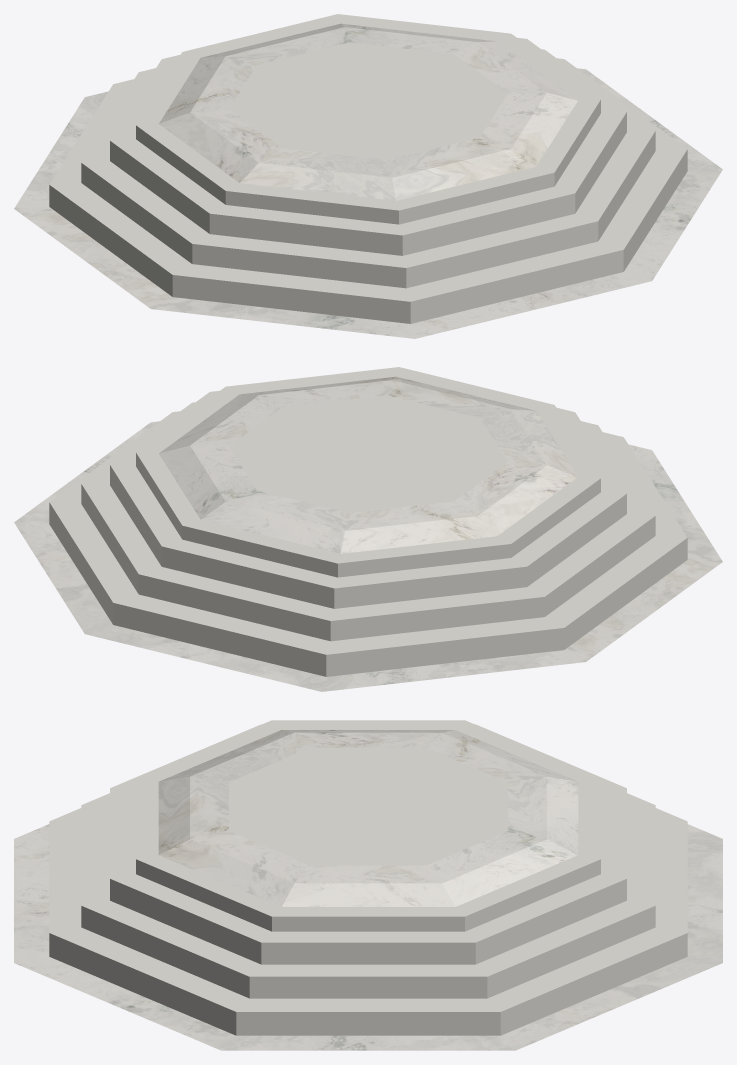
Rendered from AltarREWORK2.fbx.
3 views of the same model, one above another, from view 1: azimuth 30°, elevation 25°; view 2: azimuth 150°, elevation 25°; view 3: azimuth 270°, elevation 25° (orthographic). The views are drawn at different scales.
Parts seen in each view (by area): view 1: Altar; view 2: Altar; view 3: Altar.
Boxes of the visible parts, box(x1,y1,x2,y2) form: Altar: box(14, 14, 722, 338); Altar: box(14, 367, 722, 691); Altar: box(14, 720, 722, 1050).
Size of the model in its own units: 3009 by 442 by 3009.
